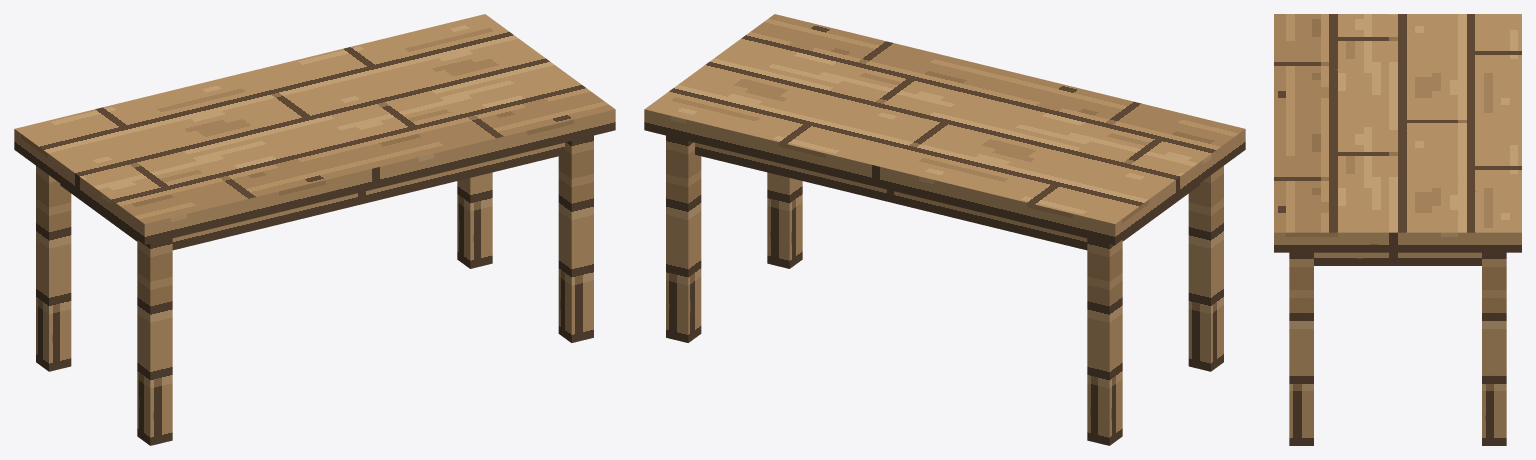
File: table.glb
3 views of the same model, side by side, from view 1: azimuth 30°, elevation 25°; view 2: azimuth 150°, elevation 25°; view 3: azimuth 270°, elevation 25° (orthographic). The views are drawn at different scales.
Parts seen in each view (by area): view 1: table; view 2: table; view 3: table.
Boxes of the visible parts, box(x1,y1,x2,y2) form: table: box(14, 14, 615, 445); table: box(644, 14, 1245, 445); table: box(1274, 14, 1521, 445).
Bounding box in the file's own units: 1.92 × 0.9 × 0.92.
Materials: 1 (1 with a texture image).
